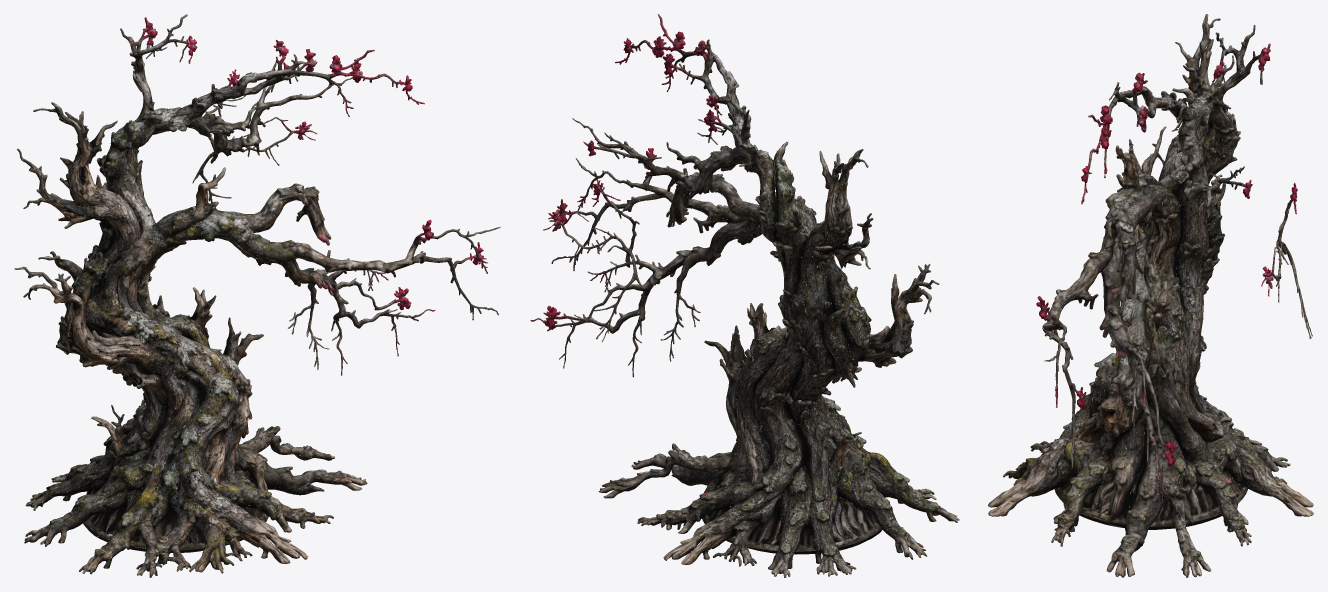
The model's file is twisted-flowering-tree.glb.
The picture shows the model from 3 angles, left to right: view 1: azimuth 30°, elevation 25°; view 2: azimuth 150°, elevation 25°; view 3: azimuth 270°, elevation 25°; orthographic projection. The views are drawn at different scales.
Parts seen in each view (by area): view 1: tripo_node_c3f1964c-20b3-405d-9e1a-5e7d6abaef3a; view 2: tripo_node_c3f1964c-20b3-405d-9e1a-5e7d6abaef3a; view 3: tripo_node_c3f1964c-20b3-405d-9e1a-5e7d6abaef3a.
Boxes of the visible parts, x1,y1,x2,y2 form: tripo_node_c3f1964c-20b3-405d-9e1a-5e7d6abaef3a: [14, 14, 500, 577]; tripo_node_c3f1964c-20b3-405d-9e1a-5e7d6abaef3a: [530, 14, 959, 577]; tripo_node_c3f1964c-20b3-405d-9e1a-5e7d6abaef3a: [988, 14, 1313, 577].
Size of the model in its own units: 0.9539 by 0.971 by 0.5978.
1 material, 1 textured.
